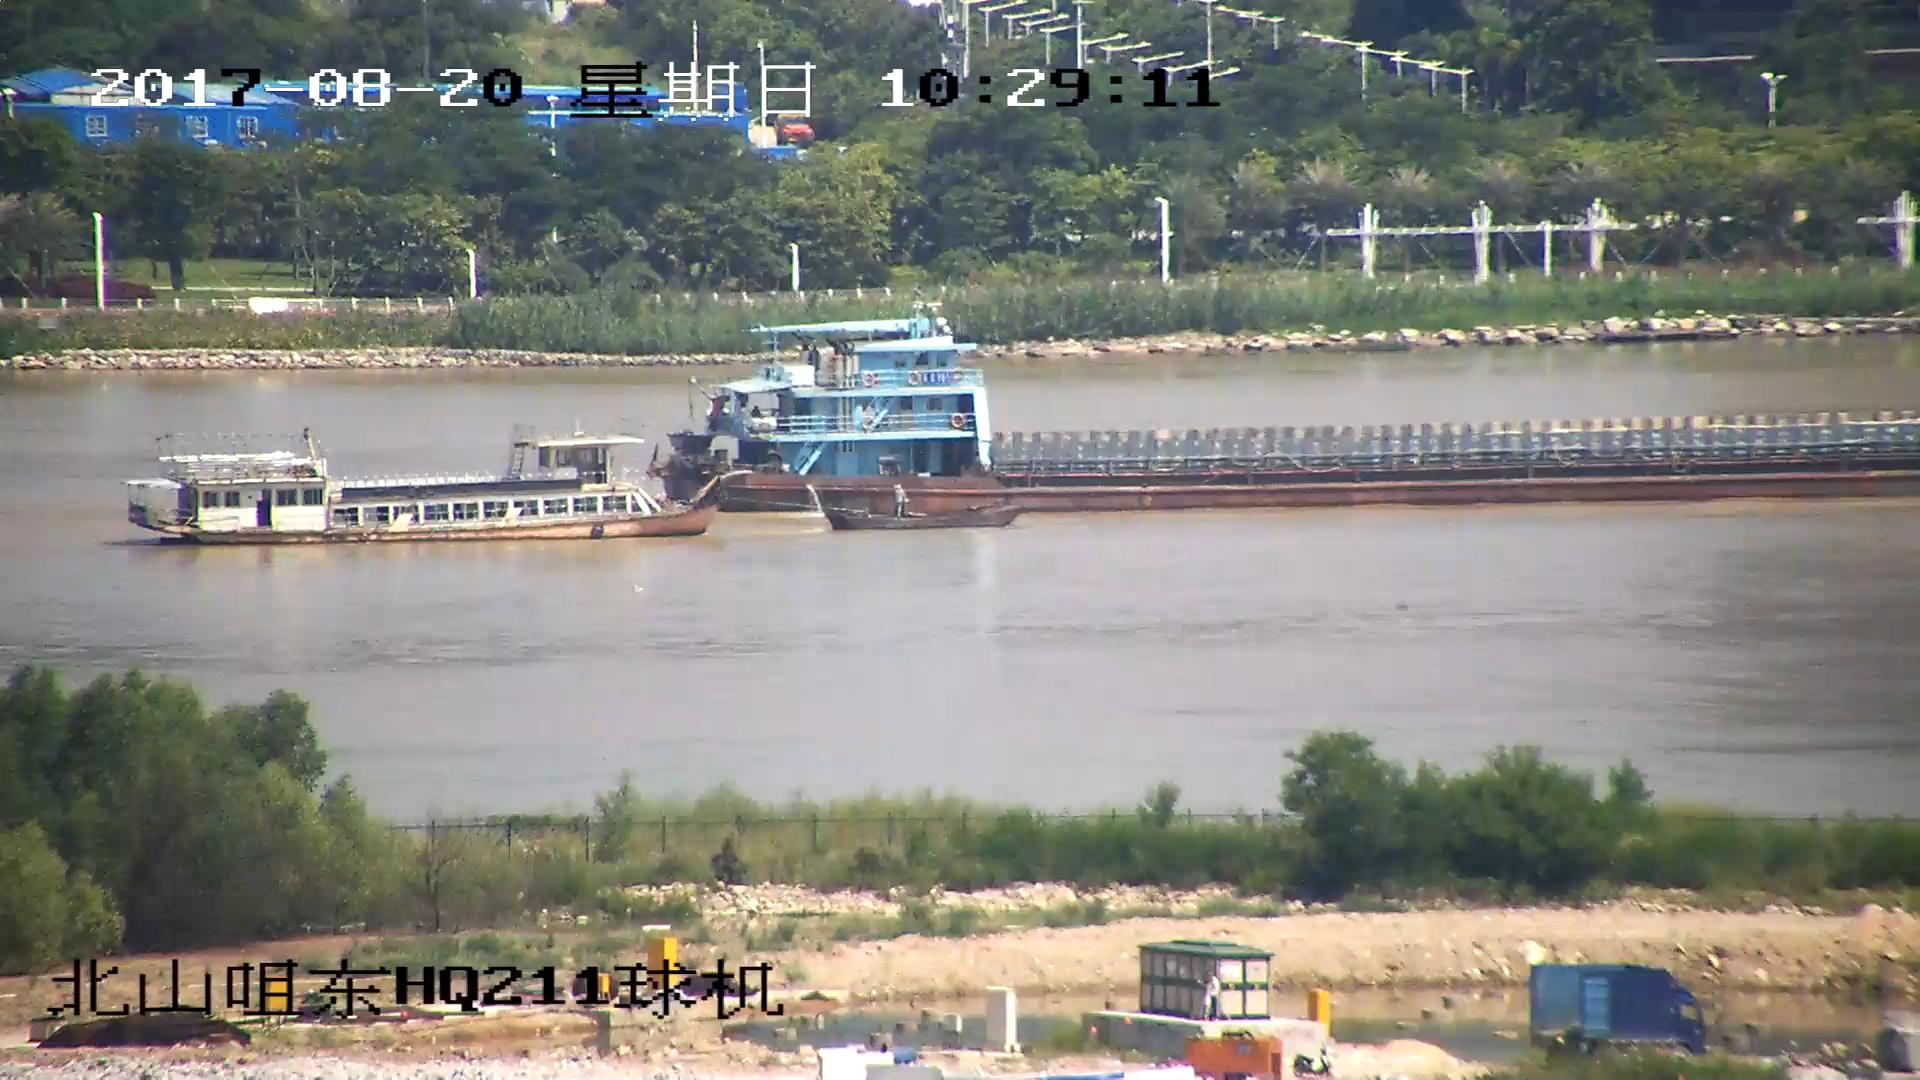fishing boat: (116, 424, 719, 546), (825, 484, 1018, 533)
ore carrier: (644, 322, 1920, 512)
